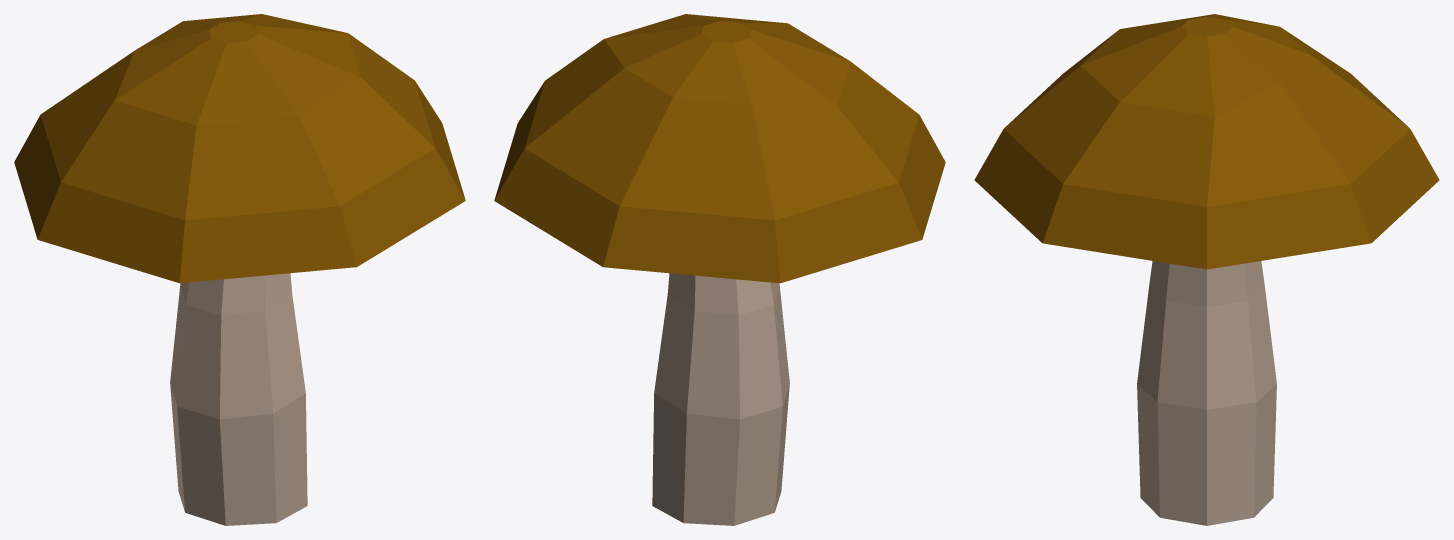
The model's file is floresta_mushroom_brown_small.glb.
3 views of the same model, side by side, from view 1: azimuth 30°, elevation 25°; view 2: azimuth 150°, elevation 25°; view 3: azimuth 270°, elevation 25° (orthographic).
Parts seen in each view (by area): view 1: Brown Mushroom small f; view 2: Brown Mushroom small f; view 3: Brown Mushroom small f.
Part boxes in pixels (box(x1,y1,x2,y2)): Brown Mushroom small f: box(14, 14, 465, 525); Brown Mushroom small f: box(494, 14, 945, 525); Brown Mushroom small f: box(974, 14, 1439, 525).
Size of the model in its own units: 0.4544 by 0.5041 by 0.4548.
